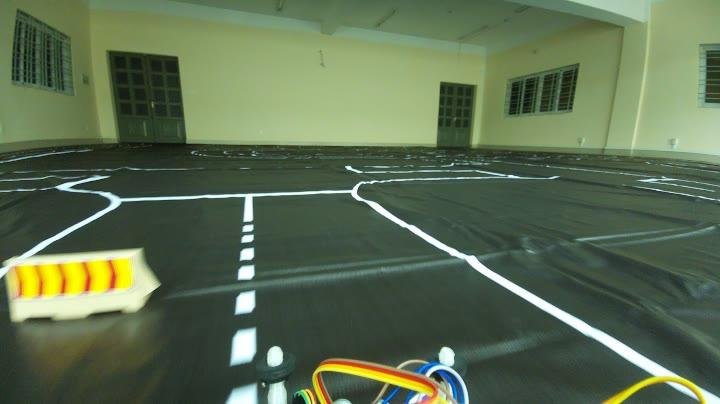roadblock: (4, 252, 144, 316)
